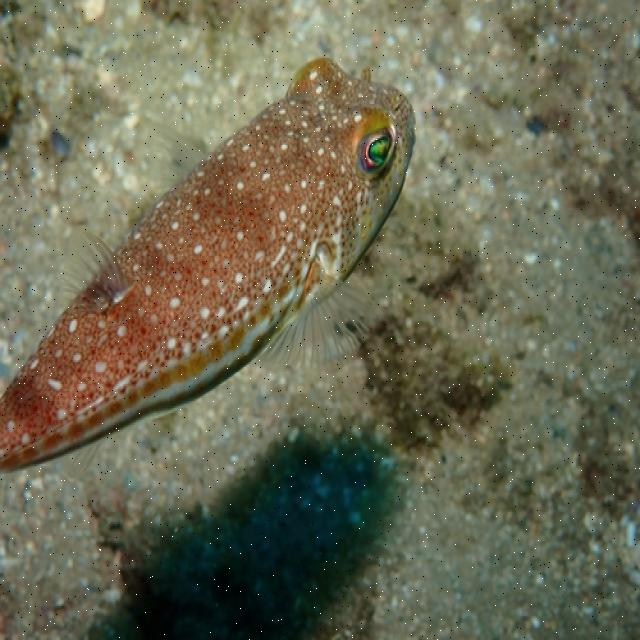Balik: (0, 59, 414, 471)
